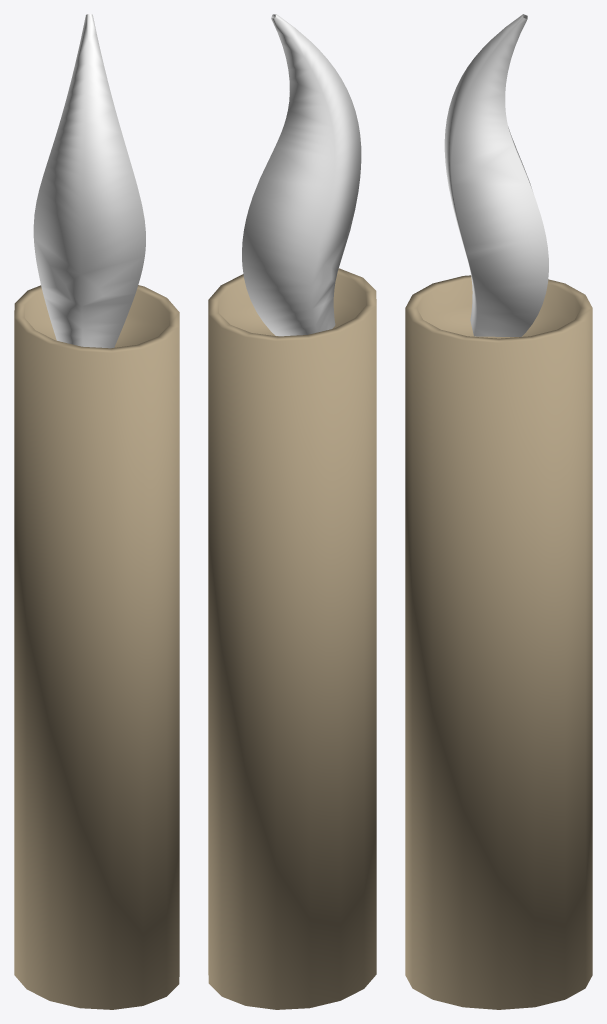
File: Candle2.fbx
The picture shows the model from 3 angles, left to right: view 1: azimuth 30°, elevation 25°; view 2: azimuth 150°, elevation 25°; view 3: azimuth 270°, elevation 25°; orthographic projection.
Parts seen in each view (by area): view 1: candle S; view 2: candle S; view 3: candle S.
Part boxes in pixels (box(x1,y1,x2,y2)): candle S: box(14, 14, 179, 1009); candle S: box(208, 14, 376, 1009); candle S: box(405, 14, 592, 1009).
Bounding box in the file's own units: 0.0669 × 0.4312 × 0.0761.
